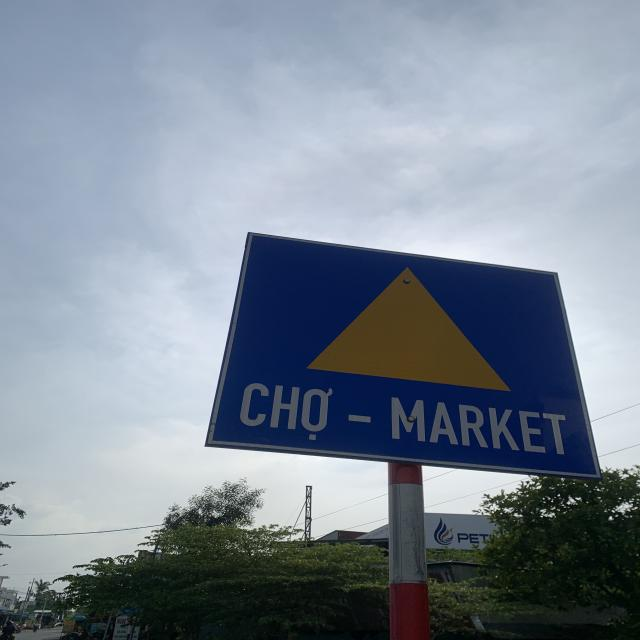Cho_Quay_Xe: (205, 231, 599, 478)
